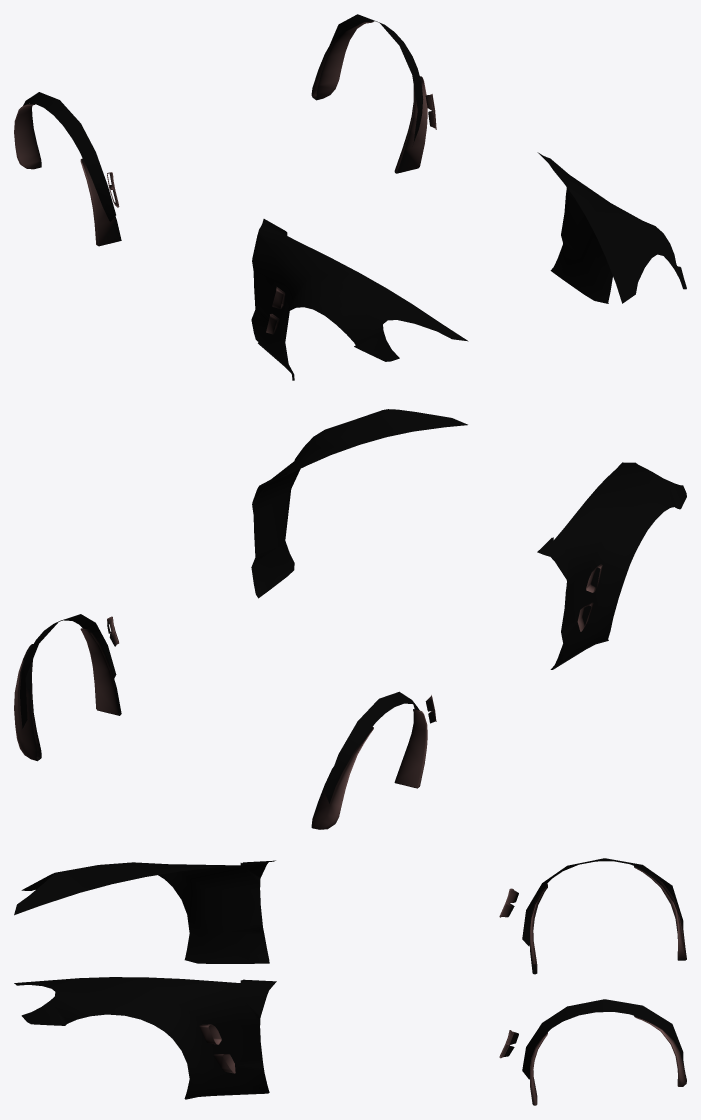
File: Zr1_Fender_03_Trim.fbx
3 views of the same model, one above another, from view 1: azimuth 30°, elevation 25°; view 2: azimuth 150°, elevation 25°; view 3: azimuth 270°, elevation 25° (orthographic). The views are drawn at different scales.
Visible parts, largest first — view 1: Zr1_Fender_03_Trim; view 2: Zr1_Fender_03_Trim; view 3: Zr1_Fender_03_Trim.
Part boxes in pixels (x1=…): Zr1_Fender_03_Trim: x1=14, y1=14, x2=686, y2=380; Zr1_Fender_03_Trim: x1=14, y1=409, x2=686, y2=829; Zr1_Fender_03_Trim: x1=14, y1=858, x2=686, y2=1105.
Size of the model in its own units: 197 by 68.91 by 368.
